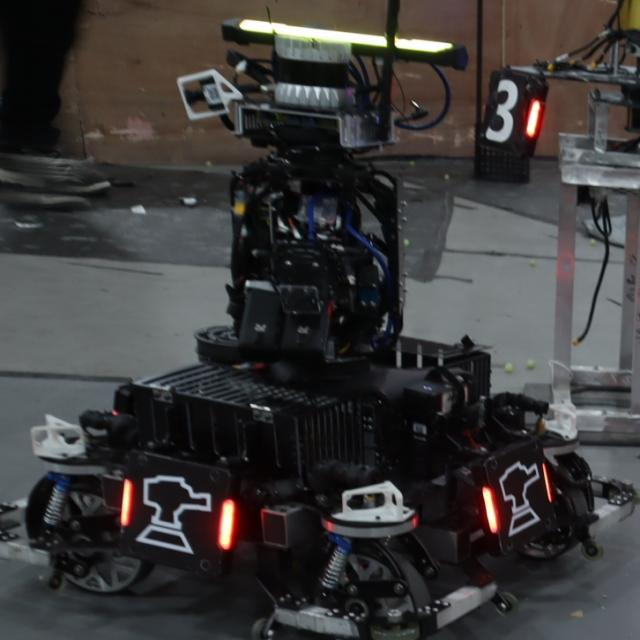R3: (482, 74, 542, 150)
Rs: (118, 472, 236, 562), (477, 457, 554, 540)
